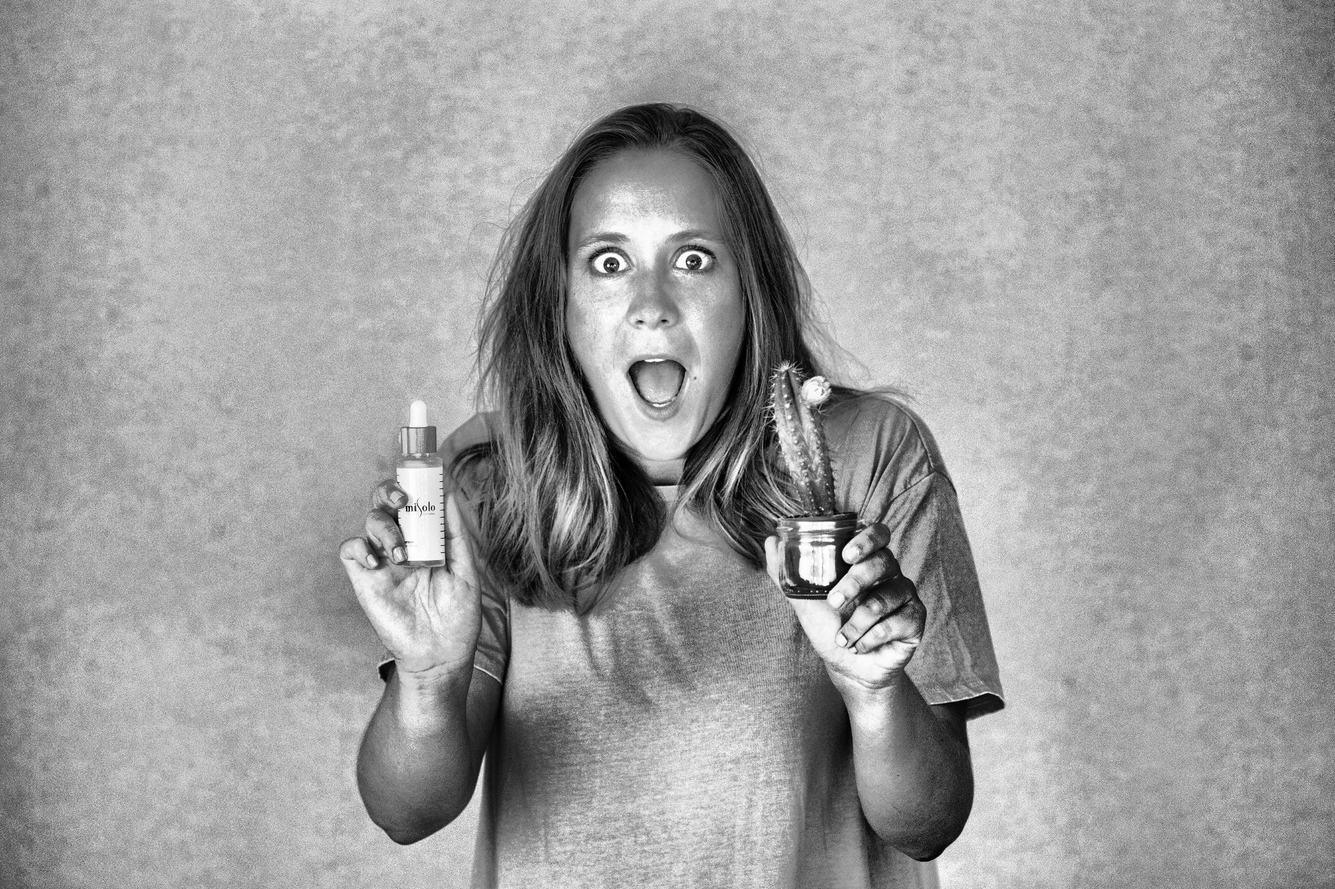surprised: (548, 162, 778, 462)
